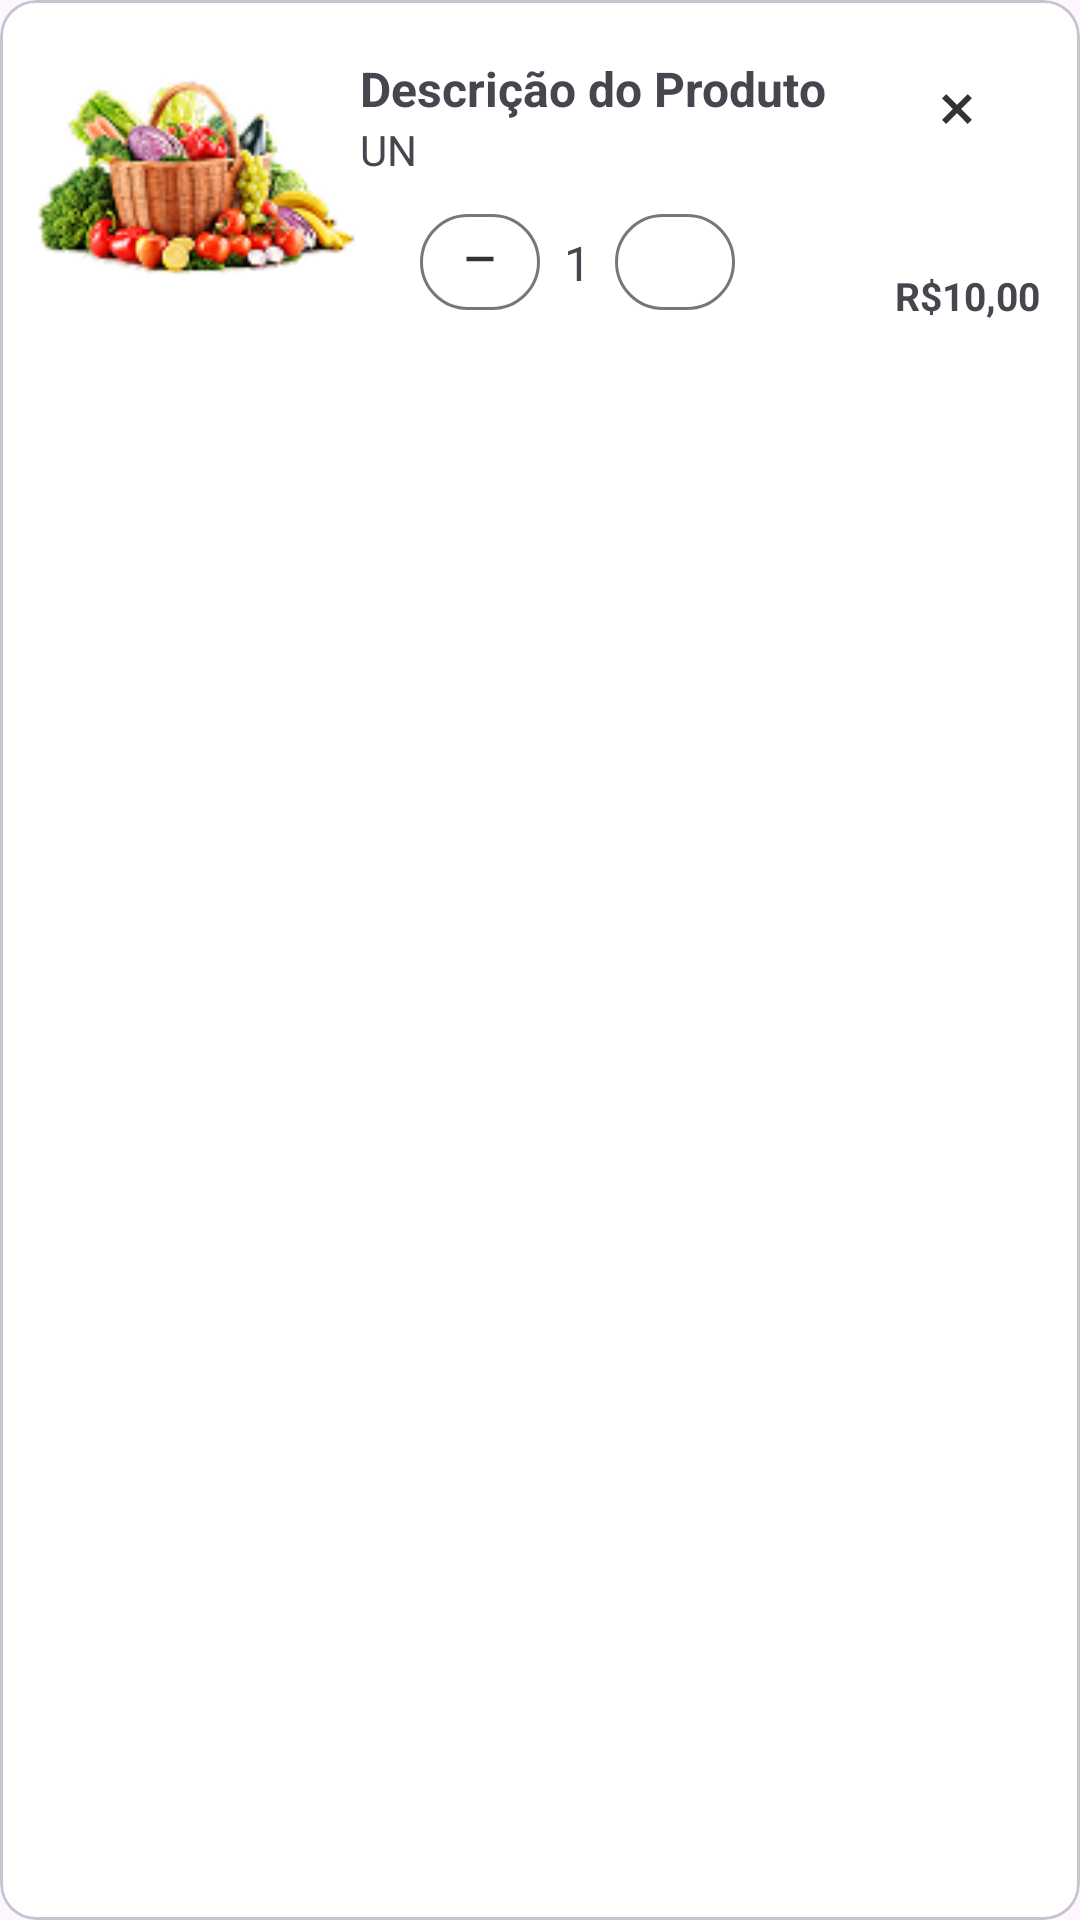

Screen size 1080 × 1920. Icon name, then its center in pixels as (x,y):
decrement: (480,262)
fruta vegetal: (196,177)
